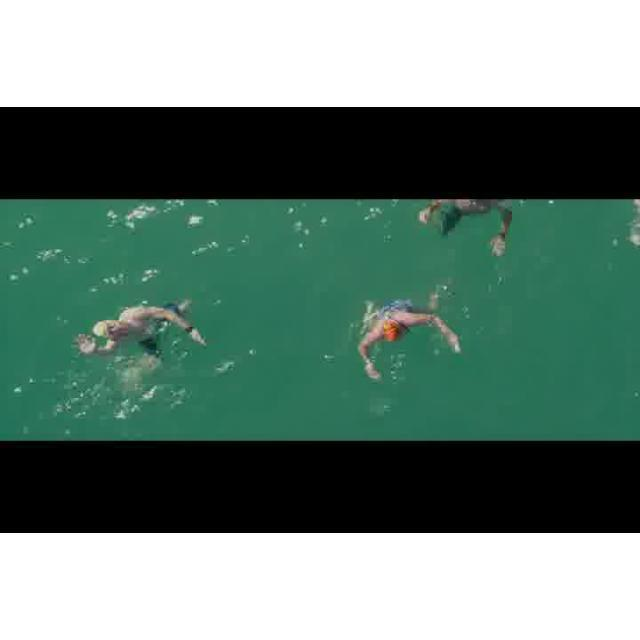human: (351, 287, 468, 384), (77, 294, 197, 368), (419, 193, 520, 258)
